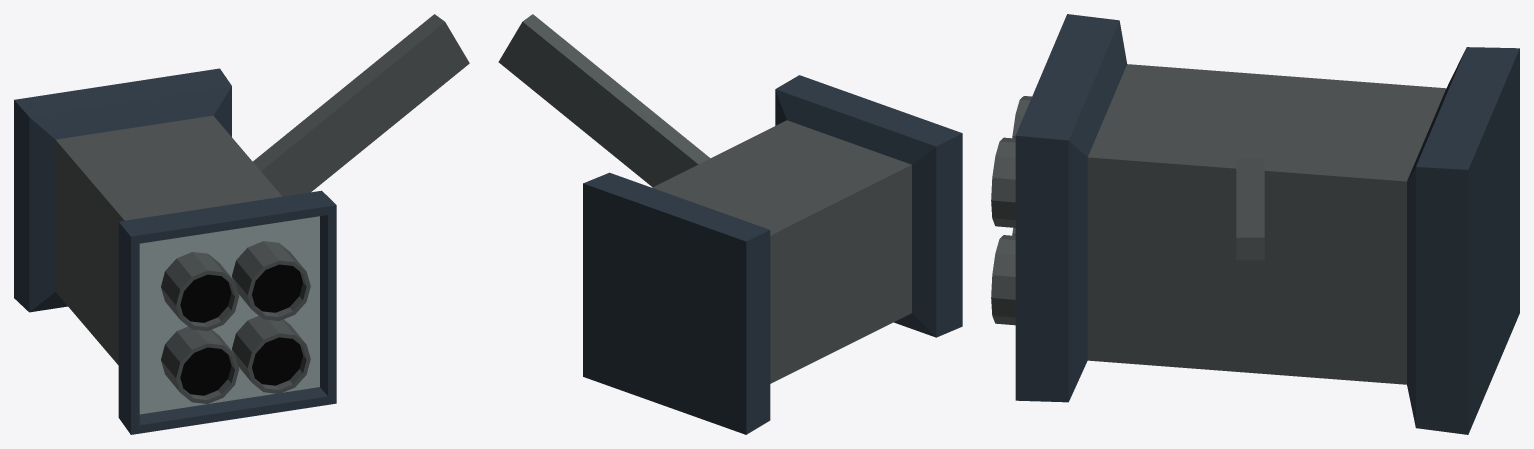
File: DropshipEngineLeft.fbx
3 views of the same model, side by side, from view 1: azimuth 30°, elevation 25°; view 2: azimuth 150°, elevation 25°; view 3: azimuth 270°, elevation 25° (orthographic). The views are drawn at different scales.
Parts seen in each view (by area): view 1: LeftDropshipEngine; view 2: LeftDropshipEngine; view 3: LeftDropshipEngine.
Part boxes in pixels (x1,y1,x2,y2): LeftDropshipEngine: (14, 14, 469, 434); LeftDropshipEngine: (498, 14, 962, 434); LeftDropshipEngine: (991, 14, 1519, 434).
Bounding box in the file's own units: 1746 × 1140 × 1488.
